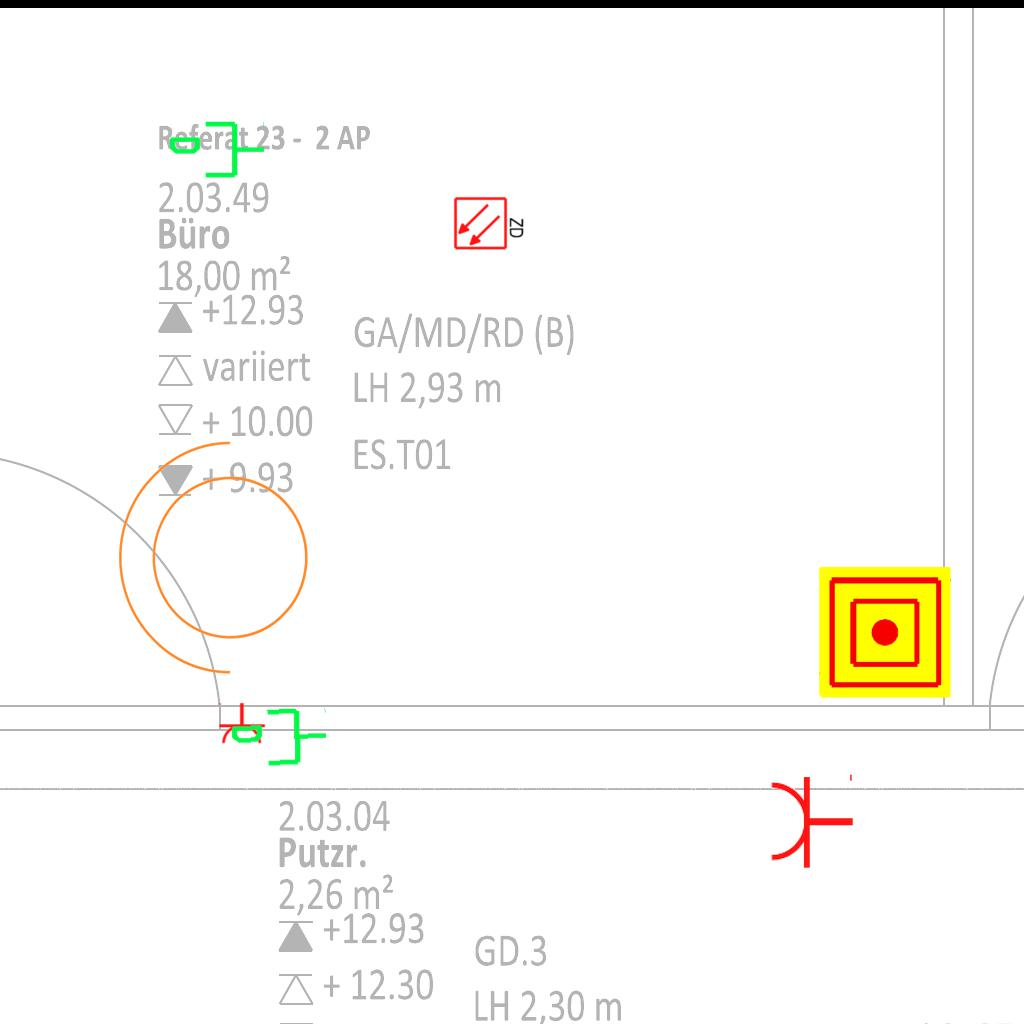Datenanschluss_einfach: (228, 702, 331, 776), (167, 117, 267, 186)
NAM-Nichtautomatischer_Melder: (819, 566, 951, 698)
Scheinwerfer_fuer_Alarmbeleuchtung: (108, 432, 333, 696)
Schukosteckdose_einfach: (768, 770, 855, 870), (216, 702, 266, 745)
ZD_Melder_in_Zwischendecke_mit_Revisionsoeffnung_mind_40_x_40_cm: (453, 194, 527, 251)
